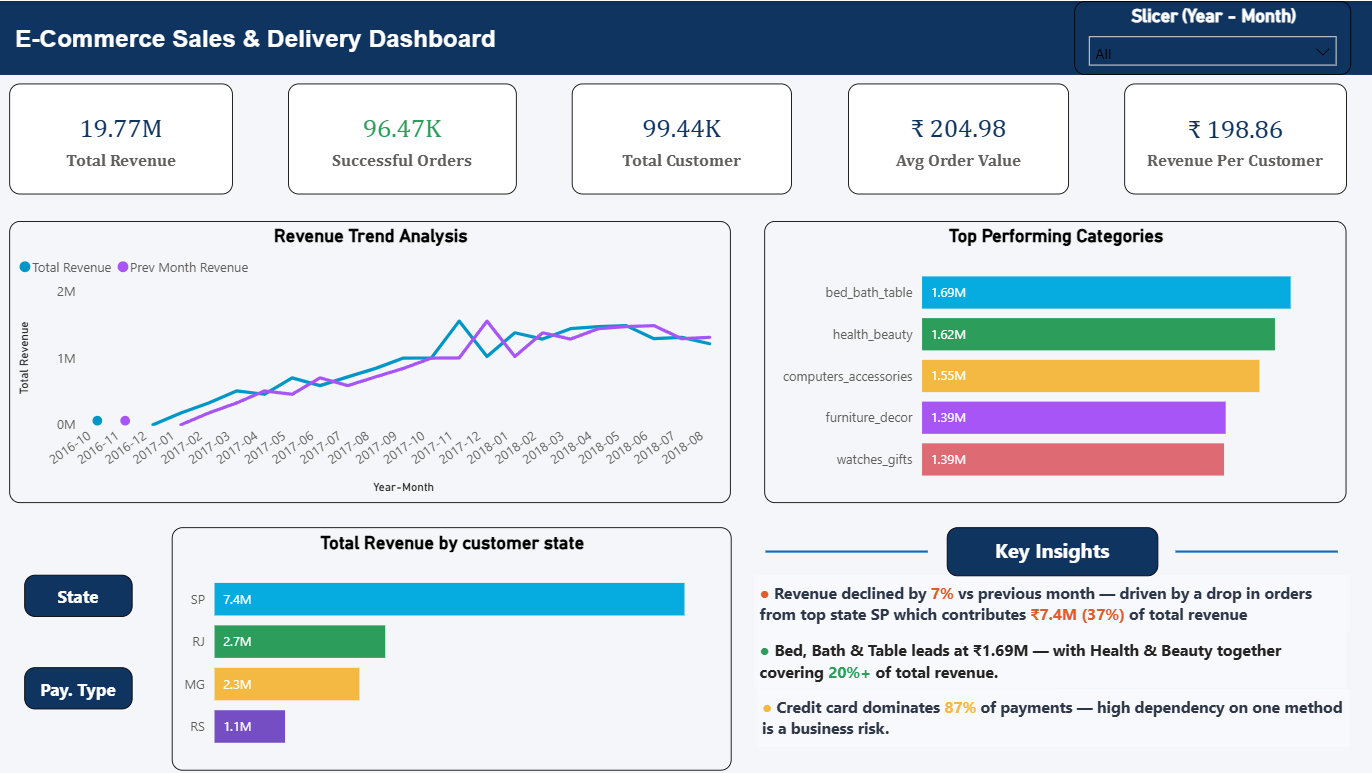

The dashboard page shown, as its layout file describes it:
{"tool":"powerbi","page":{"name":"Revenue","canvas":[1280,720],"ordinal":0},"visuals":[{"type":"card","fields":{"Values":["Date_Table.Total Revenue"]},"box":[10.2,76.9,208,102.9],"z":0},{"type":"shape","box":[0,0,1279.9,69],"z":1000},{"type":"card","fields":{"Values":["Date_Table.Total_orders"]},"box":[269.9,76.9,212.6,102.9],"z":2000},{"type":"card","fields":{"Values":["Date_Table.Total_customers"]},"box":[534.2,76.9,204.6,102.9],"z":3000},{"type":"card","fields":{"Values":["Date_Table.Avg_order_value"]},"box":[790.6,76.9,205.8,102.9],"z":4000},{"type":"card","fields":{"Values":["Date_Table.Revenue_per_customer"]},"box":[1047.7,76.7,207,103.5],"z":5000},{"type":"lineChart","title":"Revenue Trend Analysis","fields":{"Y":["Date_Table.Total Revenue"],"Category":["Date_Table.Year-Month"],"Y2":["Date_Table.Prev_Month_Sale"]},"box":[10.1,204.2,671.1,262.6],"z":6000},{"type":"clusteredBarChart","title":"Top Performing Categories","fields":{"Category":["dim_products_final.product_category_name_english"],"Y":["Date_Table.Total Revenue"]},"box":[712.9,204.2,541.7,262.6],"z":7000},{"type":"slicer","title":"Slicer (Year - Month)","fields":{"Values":["Date_Table.Year-Month"]},"box":[1000.9,0,257.5,68.5],"z":8000},{"type":"textbox","box":[703.5,533.7,554.7,53.5],"z":9000},{"type":"textbox","box":[882.9,489.7,196.6,45.7],"z":10000},{"type":"shape","box":[714.2,506.2,151,12.7],"z":11000},{"type":"shape","box":[1094.8,506.2,151,12.7],"z":12000},{"type":"clusteredBarChart","title":"Total Revenue by customer state","fields":{"Category":["dim_customers.customer_state"],"Y":["Date_Table.Total Revenue"]},"box":[161.3,490.1,520.5,226.8],"z":14000},{"type":"actionButton","title":"State","box":[24.4,534.2,100.5,39.6],"z":15000},{"type":"actionButton","title":"Pay. Type","box":[24.4,619.5,100.5,39.6],"z":16000},{"type":"textbox","box":[703.5,587.2,551.2,52.3],"z":17000},{"type":"textbox","box":[705.8,639.5,551.2,54.7],"z":18000}]}

Visuals, with their boxes in screenshot pixels (x1, y1, x2, y2), scaled from the page's 1280x720 canvas onto the 1372x773 screenshot:
card - Date_Table.Total Revenue: 11,83,234,193
shape: 0,0,1371,74
card - Date_Table.Total_orders: 289,83,517,193
card - Date_Table.Total_customers: 573,83,792,193
card - Date_Table.Avg_order_value: 847,83,1068,193
card - Date_Table.Revenue_per_customer: 1123,82,1345,193
"Revenue Trend Analysis" lineChart: 11,219,730,501
"Top Performing Categories" clusteredBarChart: 764,219,1345,501
"Slicer (Year - Month)" slicer: 1073,0,1349,74
textbox: 754,573,1349,630
textbox: 946,526,1157,575
shape: 766,543,927,557
shape: 1173,543,1335,557
"Total Revenue by customer state" clusteredBarChart: 173,526,731,770
"State" actionButton: 26,574,134,616
"Pay. Type" actionButton: 26,665,134,708
textbox: 754,630,1345,687
textbox: 757,687,1347,745
